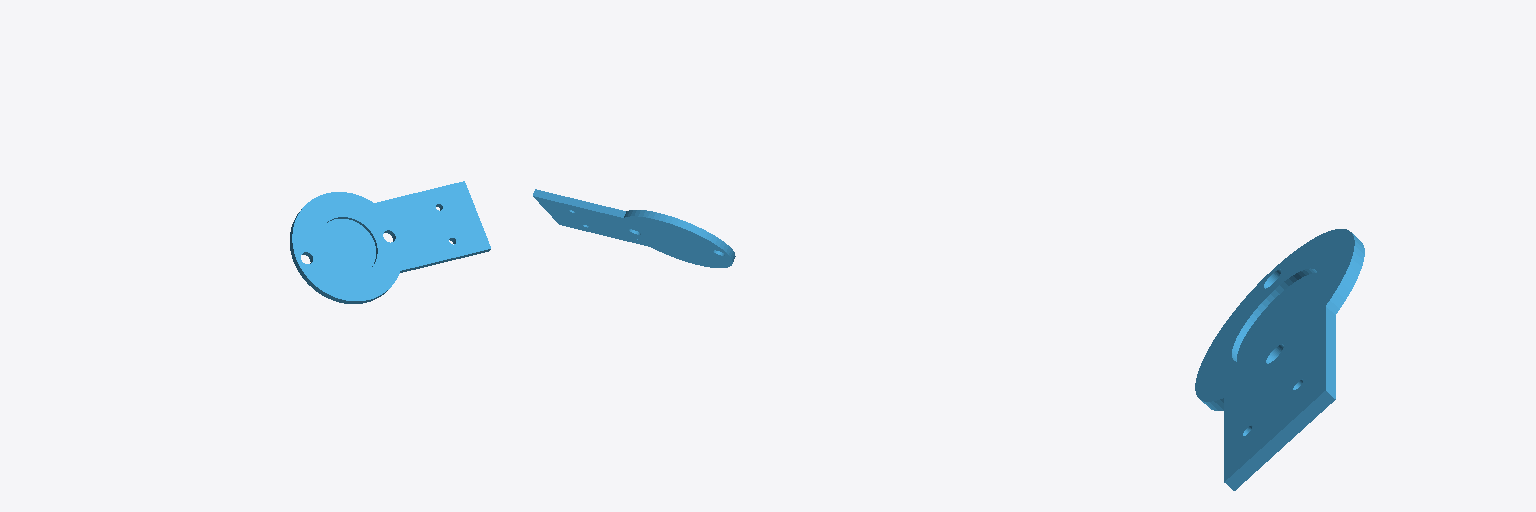
URDF robot description (panda):
<?xml version="1.0" ?>
<robot name="panda">

  <link name="panda_link0">
    <visual>
      <geometry>
        <mesh filename="franka_description/meshes/visual/link0.obj"/>
      </geometry>
    </visual>
    <collision>
      <geometry>
        <mesh filename="franka_description/meshes/collision/link0.stl"/>
      </geometry>
    </collision>
    <inertial>
      <origin rpy="0 0 0" xyz="-0.041018 -0.00014 0.049974"/>
      <mass value="0.629769"/>
      <inertia ixx="0.00315" ixy="8.2904e-07" ixz="0.00015" iyy="0.00388" iyz="8.2299e-06" izz="0.004285"/>
    </inertial>
  </link>

  <joint name="panda_joint1" type="revolute">
    <origin rpy="0 0 0" xyz="0 0 0.333"/>
    <parent link="panda_link0"/>
    <child link="panda_link1"/>
    <axis xyz="0 0 1"/>
    <limit effort="87" lower="-2.8973" upper="2.8973" velocity="2.1750"/>
    <dynamics damping="0.0" friction="0.0"/>
  </joint>

  <link name="panda_link1">
    <visual>
      <geometry>
        <mesh filename="franka_description/meshes/visual/link1.obj"/>
      </geometry>
    </visual>
    <collision>
      <geometry>
        <mesh filename="franka_description/meshes/collision/link1.stl"/>
      </geometry>
    </collision>
    <inertial>
      <origin rpy="0 0 0" xyz="0.003875 0.002081 -0.04762"/>
      <mass value="4.970684"/>
      <inertia ixx="0.70337" ixy="-0.000139" ixz="0.006772" iyy="0.70661" iyz="0.019169" izz="0.009117"/>
    </inertial>
  </link>

  <joint name="panda_joint2" type="revolute">
    <origin rpy="-1.5707963267948966 0 0" xyz="0 0 0"/>
    <parent link="panda_link1"/>
    <child link="panda_link2"/>
    <axis xyz="0 0 1"/>
    <limit effort="87" lower="-1.7628" upper="1.7628" velocity="2.1750"/>
    <dynamics damping="0.0" friction="0.0"/>
  </joint>
  
  <link name="panda_link2">
    <visual>
      <geometry>
        <mesh filename="franka_description/meshes/visual/link2.obj"/>
      </geometry>
    </visual>
    <collision>
      <geometry>
        <mesh filename="franka_description/meshes/collision/link2.stl"/>
      </geometry>
    </collision>
    <inertial>
      <origin rpy="0 0 0" xyz="-0.003141 -0.02872  0.003495"/>
      <mass value="0.646926"/>
      <inertia ixx="0.007962" ixy="-0.003925" ixz="0.010254" iyy="0.02811" iyz="0.000704" izz="0.025995"/>
    </inertial>
  </link>

  <joint name="panda_joint3" type="revolute">
    <origin rpy="1.5707963267948966 0 0" xyz="0 -0.316 0"/>
    <parent link="panda_link2"/>
    <child link="panda_link3"/>
    <axis xyz="0 0 1"/>
    <limit effort="87" lower="-2.8973" upper="2.8973" velocity="2.1750"/>
    <dynamics damping="0.0" friction="0.0"/>
  </joint>
  
  <link name="panda_link3">
    <visual>
      <geometry>
        <mesh filename="franka_description/meshes/visual/link3.obj"/>
      </geometry>
    </visual>
    <collision>
      <geometry>
        <mesh filename="franka_description/meshes/collision/link3.stl"/>
      </geometry>
    </collision>
    <inertial>
      <origin rpy="0 0 0" xyz="2.7518e-02 3.9252e-02 -6.6502e-02"/>
      <mass value="3.228604"/>
      <inertia ixx="0.037242" ixy="-0.004761" ixz="-0.011396" iyy="0.036155" iyz="-0.012805" izz="0.01083"/>
    </inertial>
  </link>

  <joint name="panda_joint4" type="revolute">
    <origin rpy="1.5707963267948966 0 0" xyz="0.0825 0 0"/>
    <parent link="panda_link3"/>
    <child link="panda_link4"/>
    <axis xyz="0 0 1"/>
    <limit effort="87" lower="-3.0718" upper="-0.0698" velocity="2.1750"/>
    <dynamics damping="0.0" friction="0.0"/>
  </joint>
  
  <link name="panda_link4">
    <visual>
      <geometry>
        <mesh filename="franka_description/meshes/visual/link4.obj"/>
      </geometry>
    </visual>
    <collision>
      <geometry>
        <mesh filename="franka_description/meshes/collision/link4.stl"/>
      </geometry>
    </collision>
    <inertial>
      <origin rpy="0 0 0" xyz="-5.317e-02 1.04419e-01 2.7454e-02"/>
      <mass value="3.587895"/>
      <inertia ixx="0.025853" ixy="0.007796" ixz="-0.001332" iyy="0.019552" iyz="0.008641" izz="0.028323"/>
    </inertial>
  </link>

  <joint name="panda_joint5" type="revolute">
    <origin rpy="-1.5707963267948966 0 0" xyz="-0.0825 0.384 0"/>
    <parent link="panda_link4"/>
    <child link="panda_link5"/>
    <axis xyz="0 0 1"/>
    <limit effort="12" lower="-2.8973" upper="2.8973" velocity="2.6100"/>
    <dynamics damping="0.0" friction="0.0"/>
  </joint>
  
  <link name="panda_link5">
    <visual>
      <geometry>
        <mesh filename="franka_description/meshes/visual/link5.obj"/>
      </geometry>
    </visual>
    <collision>
      <geometry>
        <mesh filename="franka_description/meshes/collision/link5.stl"/>
      </geometry>
    </collision>
    <inertial>
      <origin rpy="0 0 0" xyz="-1.1953e-02 4.1065e-02 -3.8437e-02"/>
      <mass value="1.225946"/>
      <inertia ixx="0.035549" ixy="-0.002117" ixz="-0.004037" iyy="0.029474" iyz="0.000229" izz="0.008627"/>
    </inertial>
  </link>

  <joint name="panda_joint6" type="revolute">
    <origin rpy="1.5707963267948966 0 0" xyz="0 0 0"/>
    <parent link="panda_link5"/>
    <child link="panda_link6"/>
    <axis xyz="0 0 1"/>
    <limit effort="12" lower="-0.0175" upper="3.7525" velocity="2.6100"/>
    <dynamics damping="0.0" friction="0.0"/>
  </joint>
  
  <link name="panda_link6">
    <visual>
      <geometry>
        <mesh filename="franka_description/meshes/visual/link6.obj"/>
      </geometry>
    </visual>
    <collision>
      <geometry>
        <mesh filename="franka_description/meshes/collision/link6.stl"/>
      </geometry>
    </collision>
    <inertial>
      <origin rpy="0 0 0" xyz="6.0149e-02 -1.4117e-02 -1.0517e-02"/>
      <mass value="1.666555"/>
      <inertia ixx="0.001964" ixy="0.000109" ixz="-0.001158" iyy="0.004354" iyz="0.000341" izz="0.005433"/>
    </inertial>
  </link>

  <joint name="panda_joint7" type="revolute">
    <origin rpy="1.5707963267948966 0 0" xyz="0.088 0 0"/>
    <parent link="panda_link6"/>
    <child link="panda_link7"/>
    <axis xyz="0 0 1"/>
    <limit effort="12" lower="-2.8973" upper="2.8973" velocity="2.6100"/>
    <dynamics damping="0.0" friction="0.0"/>
  </joint>
  
  <link name="panda_link7">
    <visual>
      <geometry>
        <mesh filename="franka_description/meshes/visual/link7.obj"/>
      </geometry>
    </visual>
    <collision>
      <geometry>
        <mesh filename="franka_description/meshes/collision/link7.stl"/>
      </geometry>
    </collision>
    <inertial>
      <origin rpy="0 0 0" xyz="1.0517e-02 -4.252e-03 6.1597e-02"/>
      <mass value="0.735522"/>
      <inertia ixx="0.012516" ixy="-0.000428" ixz="-0.001196" iyy="0.010027" iyz="-0.000741" izz="0.004815"/>
    </inertial>
  </link>

  <joint name="panda_hand_joint" type="fixed">
    <parent link="panda_link7"/>
    <child link="panda_hand"/>
    <origin rpy="0 0 -0.7853981633974483" xyz="0 0 0.111"/>
  </joint>
  
  <link name="panda_hand">
    <visual>
      <geometry>
        <mesh filename="franka_description/meshes/visual/hand.obj"/>
      </geometry>
    </visual>
    <collision>
      <geometry>
        <mesh filename="franka_description/meshes/collision/hand.stl"/>
      </geometry>
    </collision>
    <inertial>
      <origin rpy="0 0 0" xyz="-0.01 0 0.03"/>
      <mass value="0.73"/>
      <inertia ixx="0.001" ixy="0" ixz="0" iyy="0.0025" iyz="0" izz="0.0017"/>
    </inertial>
  </link>

  <joint name="camera_joint" type="fixed">
    <parent link="panda_hand"/>
    <child link="camera_mount"/>
    <origin rpy="0 0 -1.5707963267948966" xyz="0 0 0"/>
  </joint>

  <link name="camera_mount">
    <visual>
      <origin rpy="0 0 0" xyz="0 0 0"/>
      <geometry>
        <mesh filename="mesh/camera/d405_mount.obj"/>
      </geometry>
    </visual>
  </link>
  
  <link name="panda_leftfinger">
    <visual>
      <origin rpy="-1.5707963267948966 0 3.14159265359" xyz="0 0 0"/>
      <geometry>
        <mesh filename="mesh/finray_finger/finray_finger_visual.obj"/>
      </geometry>
    </visual>
    <collision>
      <origin rpy="0 0 3.14159265359" xyz="0 0 0"/>
      <geometry>
        <mesh filename="mesh/finray_finger/finray_finger_collision.obj"/>
      </geometry>
    </collision>
    <inertial>
      <mass value="0.0297"/>
    </inertial>
  </link>

  <link name="panda_rightfinger">
    <visual>
      <origin rpy="-1.5707963267948966 0 0" xyz="0 0 0"/>
      <geometry>
        <mesh filename="mesh/finray_finger/finray_finger_visual.obj"/>
      </geometry>
    </visual>
    <collision>
      <origin rpy="0 0 0" xyz="0 0 0"/>
      <geometry>
        <mesh filename="mesh/finray_finger/finray_finger_collision.obj"/>
      </geometry>
    </collision>
    <inertial>
      <mass value="0.0297"/>
    </inertial>
  </link>

  <joint name="panda_finger_joint1" type="prismatic">
    <parent link="panda_hand"/>
    <child link="panda_leftfinger"/>
    <origin rpy="0 0 0" xyz="0 0 0.0584"/>
    <axis xyz="0 1 0"/>
    <limit effort="70" lower="0.0" upper="0.040" velocity="0.050"/>
    <dynamics damping="0.0" friction="5.0"/>
  </joint>

  <joint name="panda_finger_joint2" type="prismatic">
    <parent link="panda_hand"/>
    <child link="panda_rightfinger"/>
    <origin rpy="0 0 0" xyz="0 0 0.0584"/>
    <axis xyz="0 -1 0"/>
    <limit effort="70" lower="0.0" upper="0.040" velocity="0.050"/>
    <dynamics damping="0.0" friction="5.0"/>
  </joint>

  <!--Used for calculating pose and Jacobian.
  Joint connects hand to dummy link located at midpoint between centers of original fingerpads (when fingers are mirrored).-->
  <joint name="panda_fingertip_centered_joint" type="fixed">
      <parent link="panda_hand"/>
      <child link="panda_fingertip_centered"/>
      <origin rpy="0 0 0" xyz="0 0 0.1993"/>
  </joint>

  <link name="panda_fingertip_centered">
    <inertial>
      <origin rpy="0 0 0" xyz="0 0 0"/>
      <mass value="1.0e-6"/>
      <inertia ixx="1.0e-09" ixy="0" ixz="0" iyy="1.0e-09" iyz="0" izz="1.0e-09"/>
    </inertial>
  </link>

  <joint name="panda_leftfinger_tip_joint" type="fixed">
    <parent link="panda_leftfinger"/>
    <child link="panda_leftfinger_tip"/>
    <origin rpy="0 0 0" xyz="0.0 0.0015 0.14"/>
  </joint>
  <link name="panda_leftfinger_tip">
    <visual>
      <geometry>
        <sphere radius="0.000"/>
      </geometry>
      <material name="Vis"/>
    </visual>
  </link>

  <joint name="panda_rightfinger_tip_joint" type="fixed">
    <parent link="panda_rightfinger"/>
    <child link="panda_rightfinger_tip"/>
    <origin rpy="0 0 0" xyz="0.0 -0.0015 0.14"/>
  </joint>
  <link name="panda_rightfinger_tip">
    <visual>
      <geometry>
        <sphere radius="0.000"/>
      </geometry>
      <material name="Vis"/>
    </visual>
  </link>

</robot>

--- Facts derived from the render (not from the file) ---
3 views of the same robot in one strip: view 1: azimuth 30°, elevation 25°; view 2: azimuth 150°, elevation 25°; view 3: azimuth 270°, elevation 25° (orthographic).
Robot: panda — 15 links, 14 joints (7 revolute, 2 prismatic, 5 fixed); root link panda_link0; default pose: all joints at 0 but 1 set to mid-range because 0 is outside their limits (panda_joint4 = -1.57).
Visible links, largest first — view 1: camera_mount; view 2: camera_mount; view 3: camera_mount.
Link boxes in pixels (x1,y1,x2,y2): camera_mount: (290, 181, 490, 303); camera_mount: (533, 189, 735, 267); camera_mount: (1195, 229, 1364, 490).
Size in the robot's own frame: 0.2784 by 0.0473 by 0.0473 metres.
Meshes: 11 distinct files referenced, 1 mesh visuals loaded (1 OBJ); not drawn: 11 (reference not matched to a file when rendering).